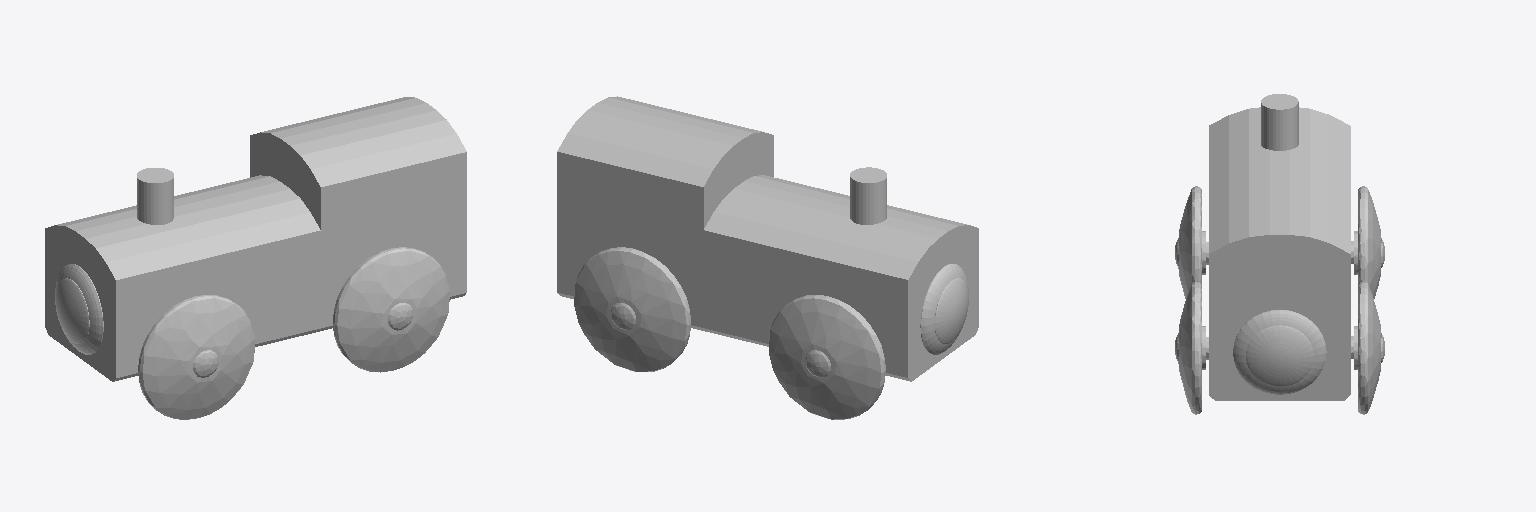
File: locomotive.obj
3 views of the same model, side by side, from view 1: azimuth 30°, elevation 25°; view 2: azimuth 150°, elevation 25°; view 3: azimuth 270°, elevation 25° (orthographic).
Parts seen in each view (by area): view 1: Locomotive, S_WEEL_Low_003.001, S_WEEL_Low_004.002; view 2: Locomotive, S_WEEL_Low_002.001, S_WEEL_Low_001.001; view 3: Locomotive, S_WEEL_Low_004.002, S_WEEL_Low_001.001, S_WEEL_Low_003.001, S_WEEL_Low_002.001.
Boxes of the visible parts, x1,y1,x2,y2 form: Locomotive: [45, 97, 466, 381]; S_WEEL_Low_003.001: [138, 295, 254, 419]; S_WEEL_Low_004.002: [333, 247, 449, 372]; Locomotive: [557, 96, 978, 381]; S_WEEL_Low_002.001: [769, 295, 885, 419]; S_WEEL_Low_001.001: [574, 247, 690, 371]; Locomotive: [1209, 94, 1350, 400]; S_WEEL_Low_004.002: [1175, 281, 1208, 414]; S_WEEL_Low_001.001: [1351, 281, 1384, 414]; S_WEEL_Low_003.001: [1175, 186, 1208, 298]; S_WEEL_Low_002.001: [1351, 186, 1384, 298].
Size of the model in its own units: 0.0652 by 0.0348 by 0.0312.